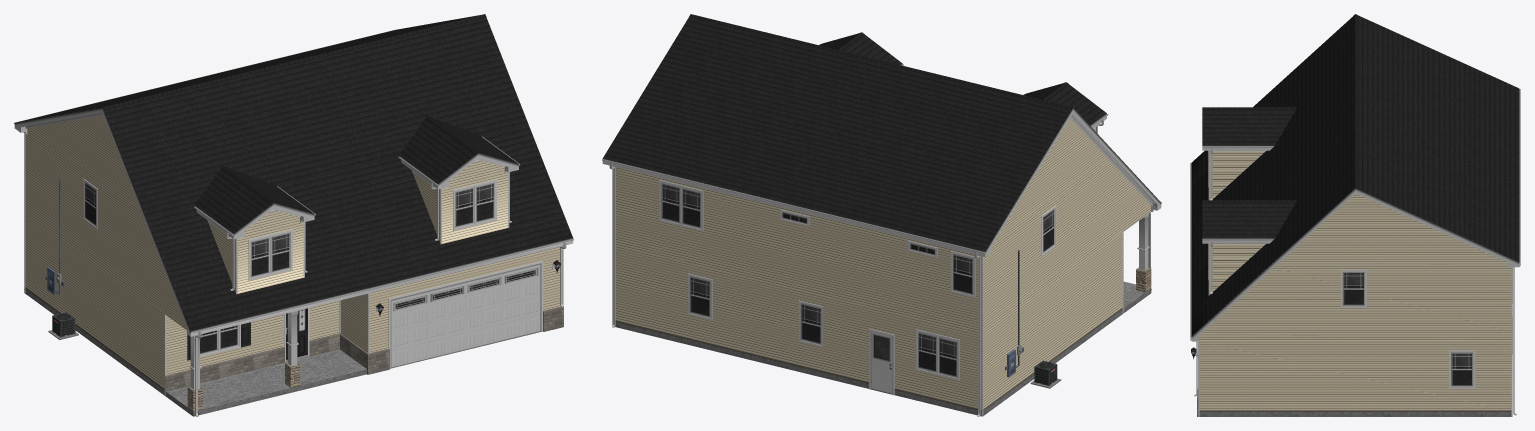
Rendered from house19_mirror1.fbx.
The picture shows the model from 3 angles, left to right: view 1: azimuth 30°, elevation 25°; view 2: azimuth 150°, elevation 25°; view 3: azimuth 270°, elevation 25°; orthographic projection. The views are drawn at different scales.
Visible parts, largest first — view 1: house19_mirror1_LOD0; view 2: house19_mirror1_LOD0; view 3: house19_mirror1_LOD0.
Boxes of the visible parts, x1=… form: house19_mirror1_LOD0: x1=14, y1=14, x2=573, y2=416; house19_mirror1_LOD0: x1=602, y1=14, x2=1161, y2=416; house19_mirror1_LOD0: x1=1190, y1=14, x2=1520, y2=416.
Size of what is drawn, in the model's own units: 4.09 by 2.45 by 3.16.
